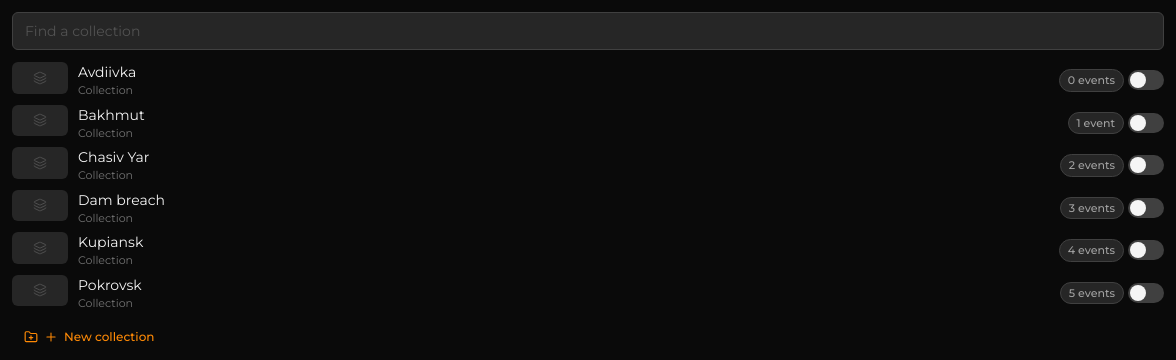
Test: AddToCollectionPanel › finds a collection by title and adds the event to it
In the dropdown labelled "Find a collection": (588, 31) [12,12,1164,50], type "ba"
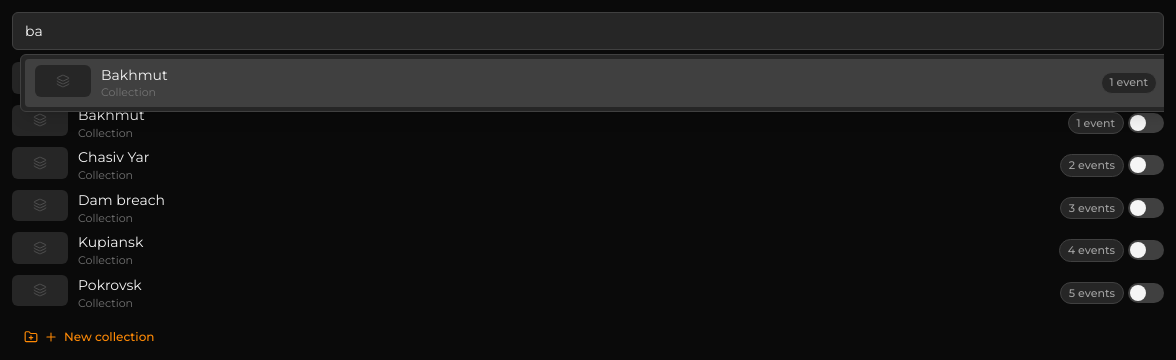
Click the option "Bakhmut Collection 1 event": (63, 81) [25,59,1164,107]
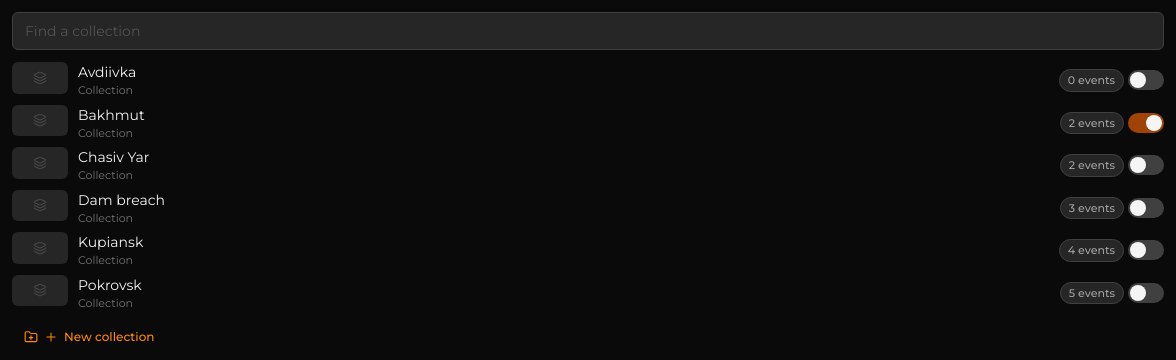
Expected: the switch named "Bakhmut" is checked, [1128,113,1164,133]
Expected: the list is gone
